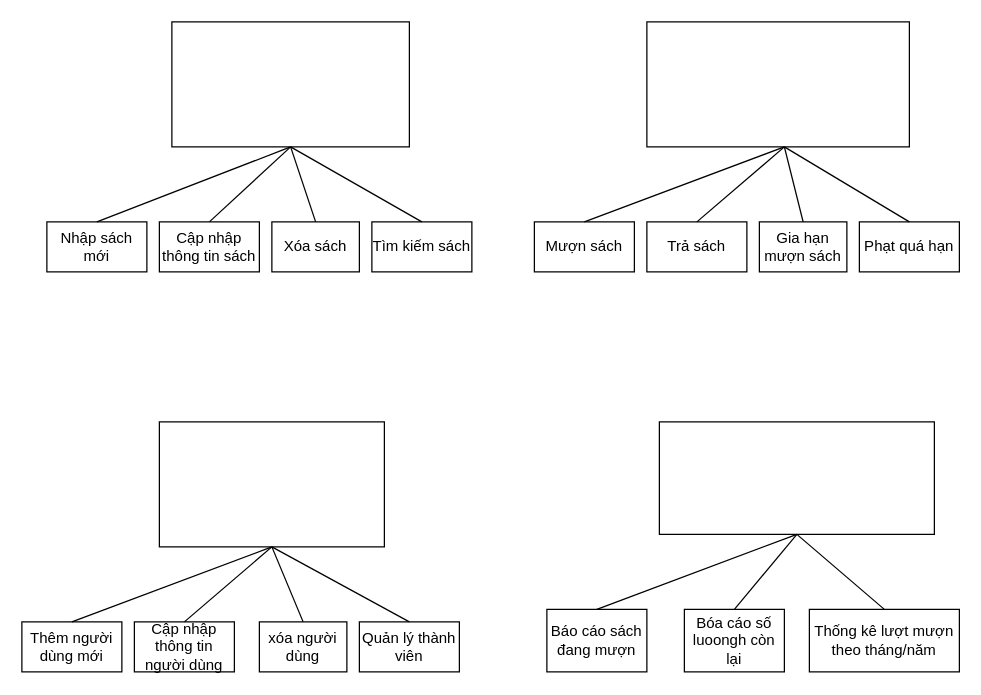
Some shapes in this 981 by 695 pixel diagram are drawn without their labels. The centre of each missing label's shape, as x and y in pixels:
Quản lý báo cáo thống kê: (796,477)
Quản lý mượn trả sách: (777,84)
Quản lý người dùng: (271,484)
Quản lý sách: (290,84)
